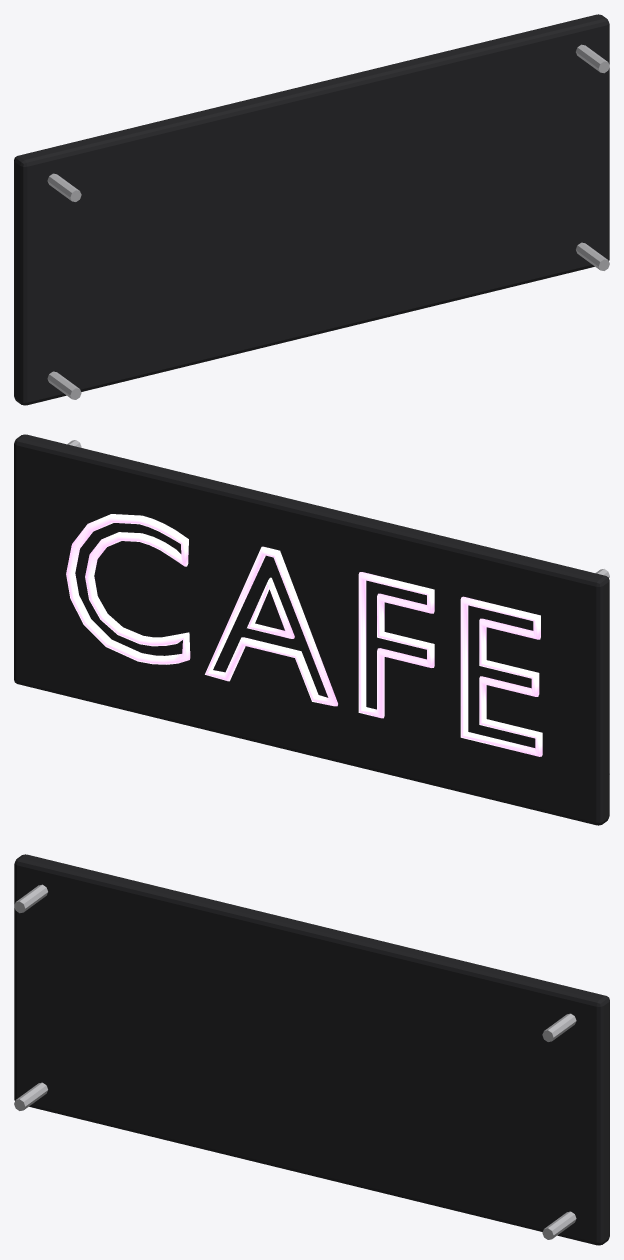
Rendered from neon_sign_cafe.glb.
3 views of the same model, one above another, from view 1: azimuth 30°, elevation 25°; view 2: azimuth 150°, elevation 25°; view 3: azimuth 330°, elevation 25° (orthographic).
Parts seen in each view (by area): view 1: neon_sign_cafe; view 2: neon_sign_cafe; view 3: neon_sign_cafe.
Boxes of the visible parts, bbox=[...] form: neon_sign_cafe: bbox=[14, 14, 609, 405]; neon_sign_cafe: bbox=[14, 434, 609, 825]; neon_sign_cafe: bbox=[14, 854, 609, 1245].
Size of the model in its own units: 1.56 by 0.62 by 0.181.
